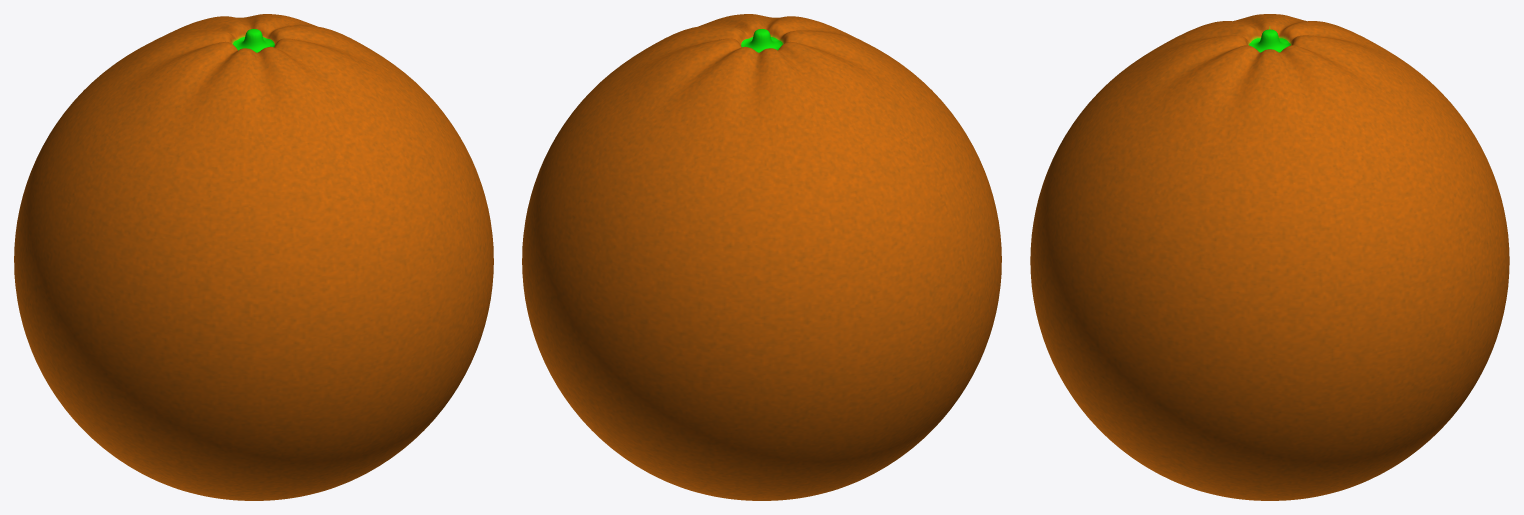
Rendered from OrangeFruit.fbx.
The picture shows the model from 3 angles, left to right: view 1: azimuth 30°, elevation 25°; view 2: azimuth 150°, elevation 25°; view 3: azimuth 270°, elevation 25°; orthographic projection.
Visible parts, largest first — view 1: Orange; view 2: Orange; view 3: Orange.
Part boxes in pixels (x1,y1,x2,y2): Orange: (14, 14, 493, 500); Orange: (522, 14, 1001, 500); Orange: (1030, 14, 1509, 500).
Size of the model in its own units: 197 by 197 by 197.
Materials: 2 (1 with a texture image).
